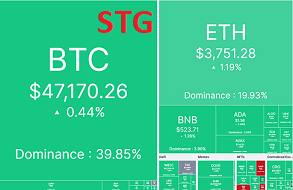

This screenshot's page, from the dashboard's own definition file:
{"tool":"powerbi","page":{"name":"Heatmap","canvas":[1280,720],"ordinal":2},"visuals":[{"type":"textbox","box":[16.8,10.9,1250.9,41.5],"z":0},{"type":"treemap","fields":{"Group":["Top_Coins_On_Market.CoinTicker","Top_Coins_On_Market.Market Cap"],"Values":["Sum(Top_Coins_On_Market.Price)"],"Details":["Top_Coins_On_Market.Circulating Supply"]},"box":[16.7,272.2,379.9,438.4],"z":4000},{"type":"treemap","fields":{"Group":["Top_Coins_On_Market.CoinTicker","Top_Coins_On_Market.Market Cap"],"Values":["Sum(Top_Coins_On_Market.Price)"],"Details":["Top_Coins_On_Market.Circulating Supply"]},"box":[16.7,62.2,379.9,209.9],"z":4001},{"type":"treemap","fields":{"Group":["Gainer-Loser.Name"],"Details":["Gainer-Loser.Volume(24h)"],"Values":["CountNonNull(Gainer-Loser.Volume(24h))"]},"box":[396.6,272.2,862.9,438.4],"z":4002},{"type":"treemap","fields":{"Group":["Gainer-Loser.Type"],"Values":["CountNonNull(Gainer-Loser.Name)"]},"box":[396.6,62.2,854.6,209.9],"z":4003}]}

Visuals, with their boxes on the page's 1280x720 design canvas (x1, y1, x2, y2). These are canvas units, not pixel positions in the 293x190 screenshot, which may show the page scaled, cropped or inside an application window:
textbox: box(17, 11, 1268, 52)
treemap - Top_Coins_On_Market.CoinTicker x Top_Coins_On_Market.Market Cap: box(17, 272, 397, 711)
treemap - Top_Coins_On_Market.CoinTicker x Top_Coins_On_Market.Market Cap: box(17, 62, 397, 272)
treemap - Gainer-Loser.Name x Gainer-Loser.Volume(24h): box(397, 272, 1260, 711)
treemap - Gainer-Loser.Type x CountNonNull(Gainer-Loser.Name): box(397, 62, 1251, 272)
